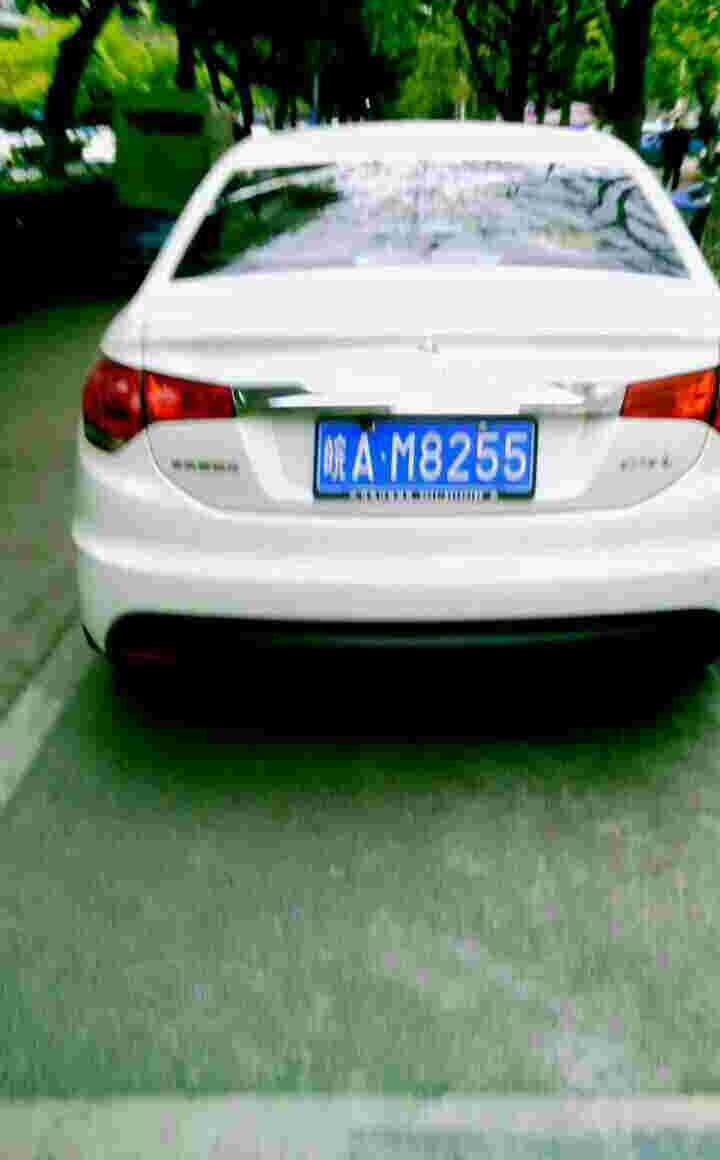license_plate: (322, 422, 533, 494)
